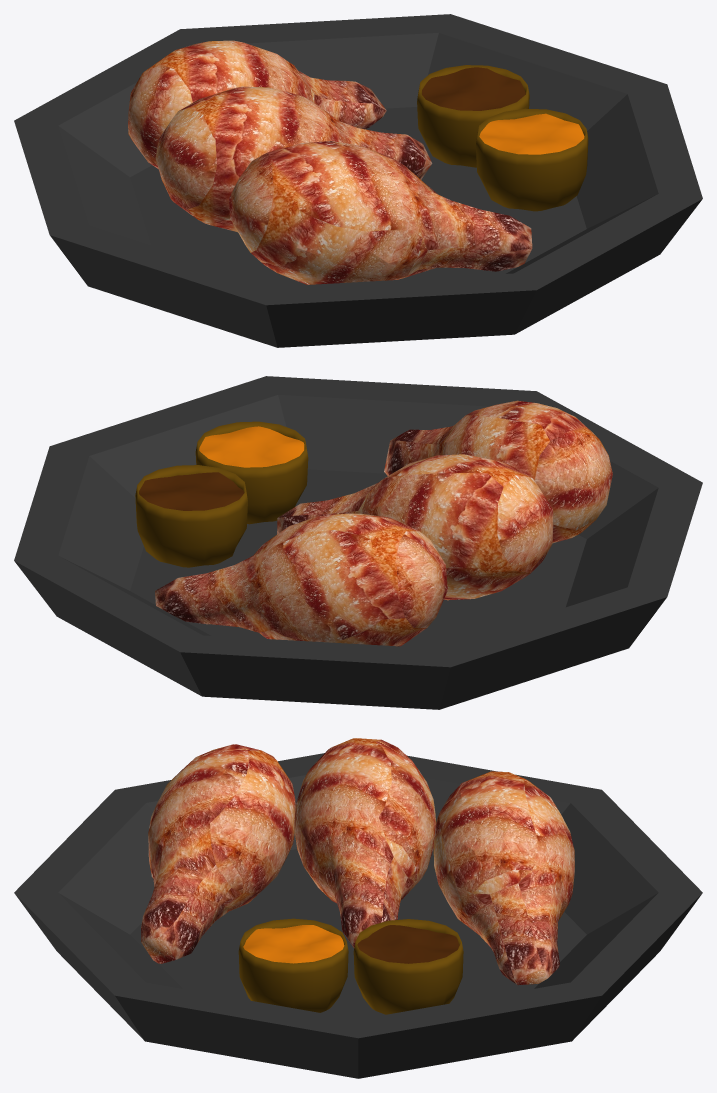
Rendered from snake legs.fbx.
3 views of the same model, one above another, from view 1: azimuth 30°, elevation 25°; view 2: azimuth 150°, elevation 25°; view 3: azimuth 270°, elevation 25° (orthographic). The views are drawn at different scales.
Parts seen in each view (by area): view 1: plate; view 2: plate; view 3: plate.
Boxes of the visible parts, bbox=[...] form: plate: bbox=[14, 14, 702, 347]; plate: bbox=[14, 376, 702, 709]; plate: bbox=[14, 738, 702, 1078].
Size of the model in its own units: 302 by 78.84 by 302.
